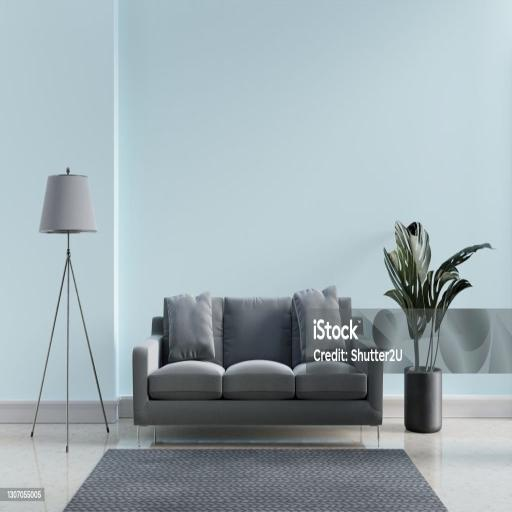back_cushion: (164, 286, 357, 368)
base: (134, 400, 382, 425)
left_arm: (353, 360, 383, 424), (352, 338, 376, 354)
legs: (137, 427, 140, 446), (152, 429, 156, 441), (378, 426, 380, 445)
right_arm: (133, 334, 162, 424)
seat_cushion: (149, 360, 369, 399)
stallion-sofa2: (133, 292, 382, 439)
